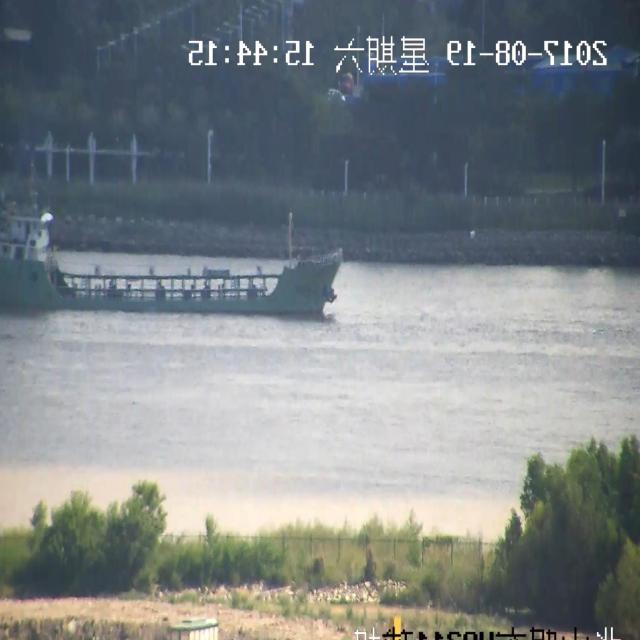houseboat: (0, 188, 355, 320)
